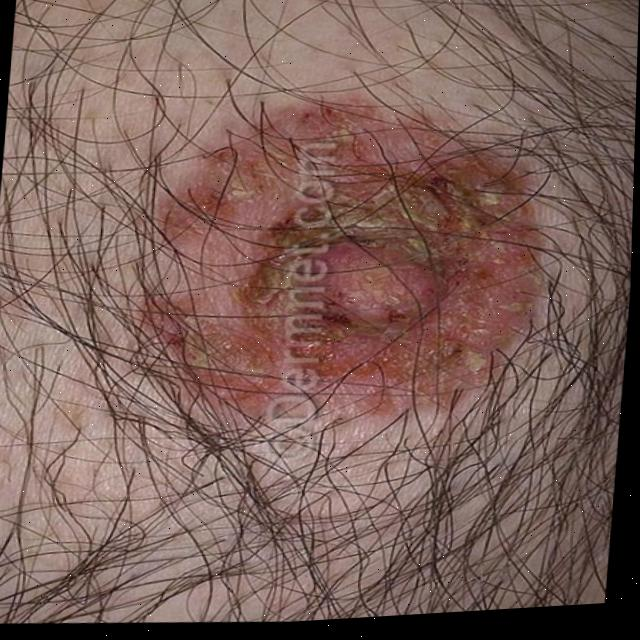Eczema: (156, 121, 525, 403)
